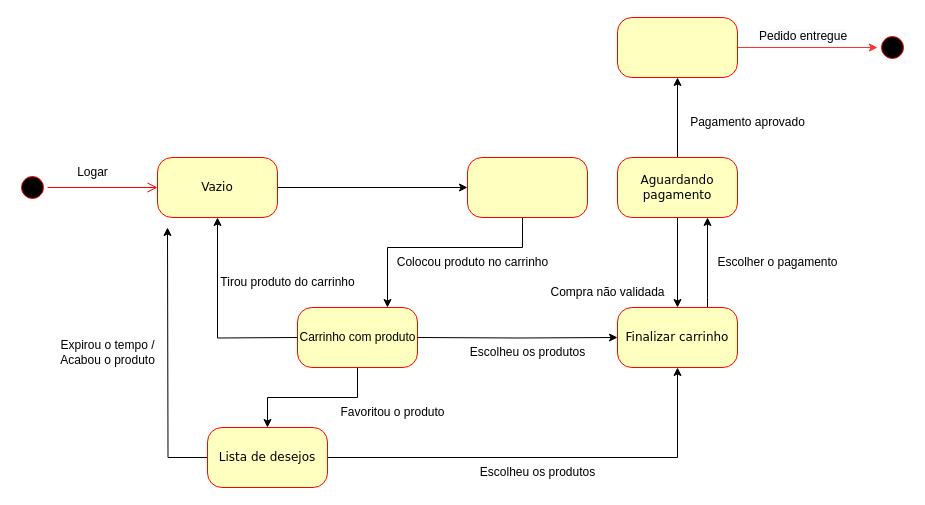
Image size: 925x505. Some labels were removed from this diagram. Here are the shapes that lost their labels. From the top down, the centre of each, then its label:
At pixel 677 47: "Acompanhamento da entrega".
At pixel 527 187: "Busca de produto".
